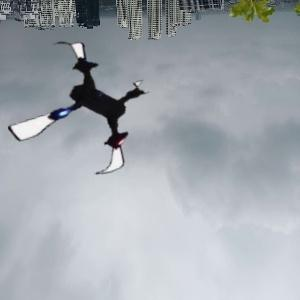drone: (7, 37, 156, 186)
